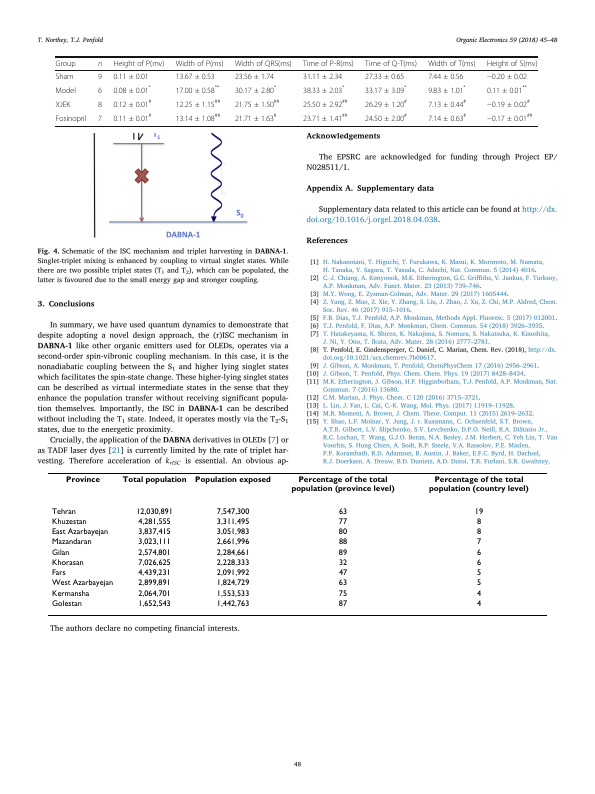borderless: (47, 471, 547, 615), (55, 55, 538, 126)
cell: (290, 476, 395, 494), (428, 476, 529, 494), (194, 476, 271, 485), (121, 476, 187, 485), (50, 579, 114, 588), (50, 528, 109, 537), (234, 59, 293, 68), (486, 112, 533, 123), (175, 98, 221, 109), (234, 98, 280, 109), (302, 98, 348, 109), (175, 112, 221, 123), (302, 112, 348, 123), (175, 84, 220, 95), (486, 98, 531, 109), (364, 59, 418, 68), (364, 98, 408, 109), (234, 112, 278, 123), (364, 112, 408, 123), (112, 59, 165, 68), (302, 59, 355, 68), (234, 84, 277, 95), (302, 84, 345, 95), (364, 84, 407, 95), (486, 59, 538, 68), (486, 84, 528, 95), (427, 59, 477, 68), (175, 59, 224, 68), (112, 84, 152, 95), (427, 84, 467, 95), (112, 98, 152, 109), (427, 98, 467, 109), (112, 112, 152, 123), (427, 112, 467, 123), (50, 589, 90, 599), (135, 507, 173, 517), (50, 538, 92, 547), (486, 72, 528, 81), (50, 517, 87, 527), (175, 72, 216, 81), (234, 72, 275, 81), (302, 72, 343, 81), (364, 72, 405, 81), (215, 507, 250, 517), (215, 517, 250, 527), (215, 548, 250, 558), (215, 558, 250, 568), (215, 589, 250, 599), (215, 599, 250, 609), (112, 72, 150, 81), (137, 517, 171, 527), (137, 548, 171, 558), (50, 558, 84, 568), (137, 558, 171, 568), (137, 589, 171, 599), (137, 599, 171, 609), (427, 72, 464, 81), (50, 599, 82, 609), (65, 476, 100, 485), (215, 528, 250, 537), (215, 538, 250, 547), (215, 569, 250, 578), (215, 579, 250, 588), (137, 528, 171, 537), (137, 538, 171, 547), (137, 569, 171, 578), (137, 579, 171, 588), (55, 114, 87, 123), (50, 507, 76, 517), (50, 548, 70, 558), (55, 86, 77, 95), (55, 59, 76, 68), (55, 72, 74, 81), (50, 569, 66, 578), (55, 100, 71, 109), (337, 507, 348, 517), (473, 507, 484, 517), (337, 517, 348, 527), (337, 548, 348, 558), (337, 558, 348, 568), (337, 589, 348, 599), (337, 599, 348, 609), (337, 528, 348, 537), (337, 538, 348, 547), (337, 569, 348, 578), (337, 579, 348, 588), (475, 558, 482, 568), (475, 599, 482, 609), (475, 528, 482, 537), (475, 538, 482, 547), (475, 569, 482, 578), (475, 579, 482, 588), (475, 517, 481, 527), (475, 548, 481, 558), (475, 589, 481, 599), (97, 72, 103, 81), (97, 86, 103, 95), (97, 100, 103, 109), (97, 114, 103, 123), (97, 61, 103, 67)
